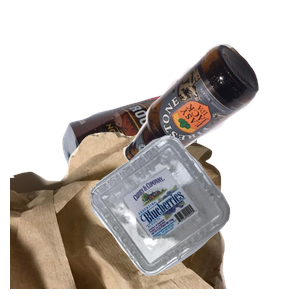glass: (120, 41, 300, 196)
metal: (60, 79, 300, 259)
plastic: (88, 133, 300, 300)
trash: (10, 120, 229, 300)
